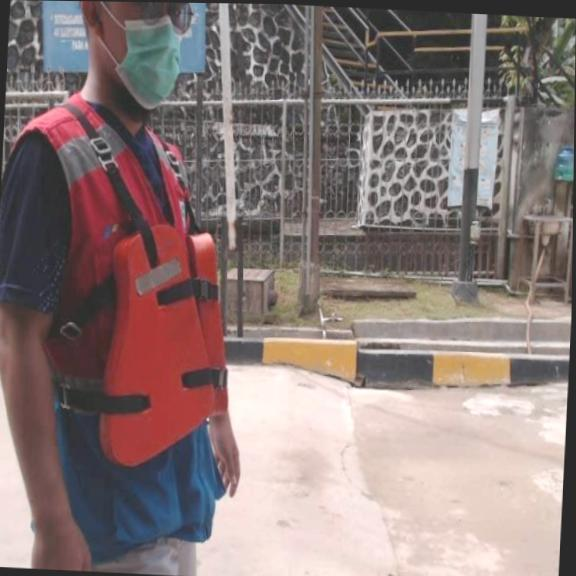safety_vest: (96, 202, 245, 473)
